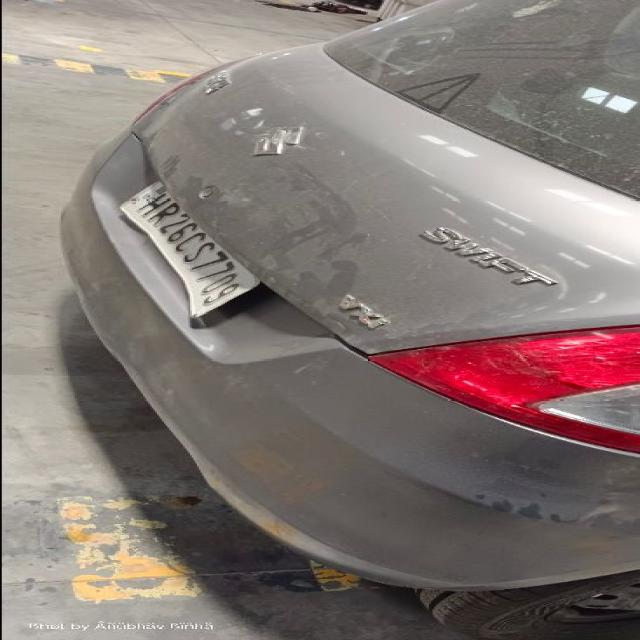license_plate: (117, 179, 261, 320)
